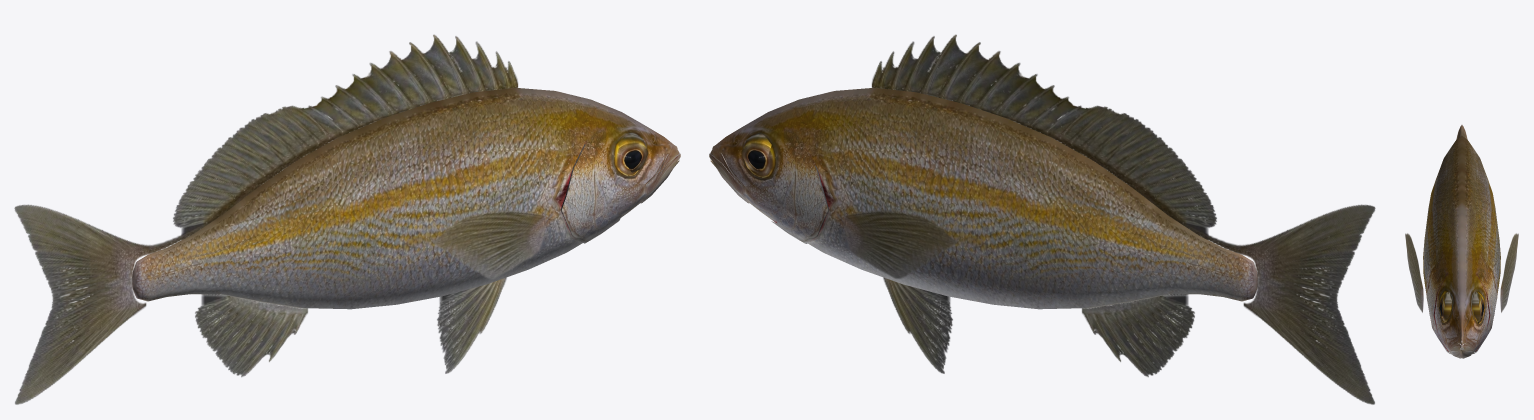
File: isaki_lo.glb
3 views of the same model, side by side, from view 1: azimuth 30°, elevation 25°; view 2: azimuth 150°, elevation 25°; view 3: azimuth 270°, elevation 25° (orthographic). The views are drawn at different scales.
Visible parts, largest first — view 1: isaki; view 2: isaki; view 3: isaki.
Part boxes in pixels (left/top/right/bottom): isaki: left=14, top=34, right=680, bottom=404; isaki: left=709, top=34, right=1375, bottom=404; isaki: left=1405, top=125, right=1518, bottom=358.
Bounding box in the file's own units: 0.3509 × 0.1725 × 0.0692.
Materials: 1 (1 with a texture image).
